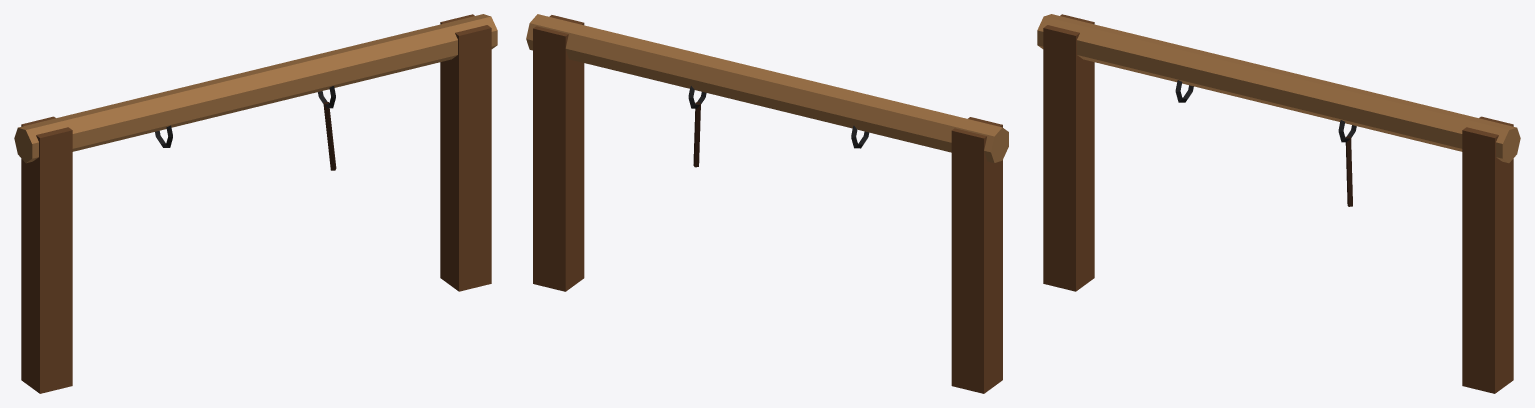
File: SM_Hitching_Post.obj
The picture shows the model from 3 angles, left to right: view 1: azimuth 30°, elevation 25°; view 2: azimuth 150°, elevation 25°; view 3: azimuth 330°, elevation 25°; orthographic projection.
Parts seen in each view (by area): view 1: SM_Hitching_Post; view 2: SM_Hitching_Post; view 3: SM_Hitching_Post.
Part boxes in pixels (<box>): SM_Hitching_Post: <box>14,14,497,393</box>; SM_Hitching_Post: <box>526,14,1008,393</box>; SM_Hitching_Post: <box>1037,14,1520,393</box>.
Size of the model in its own units: 2 by 1.07 by 0.144.
